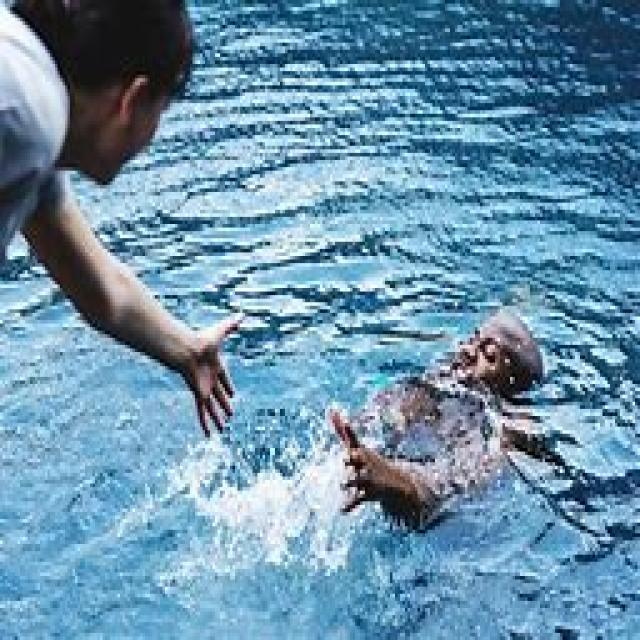drowning: (321, 270, 569, 587)
